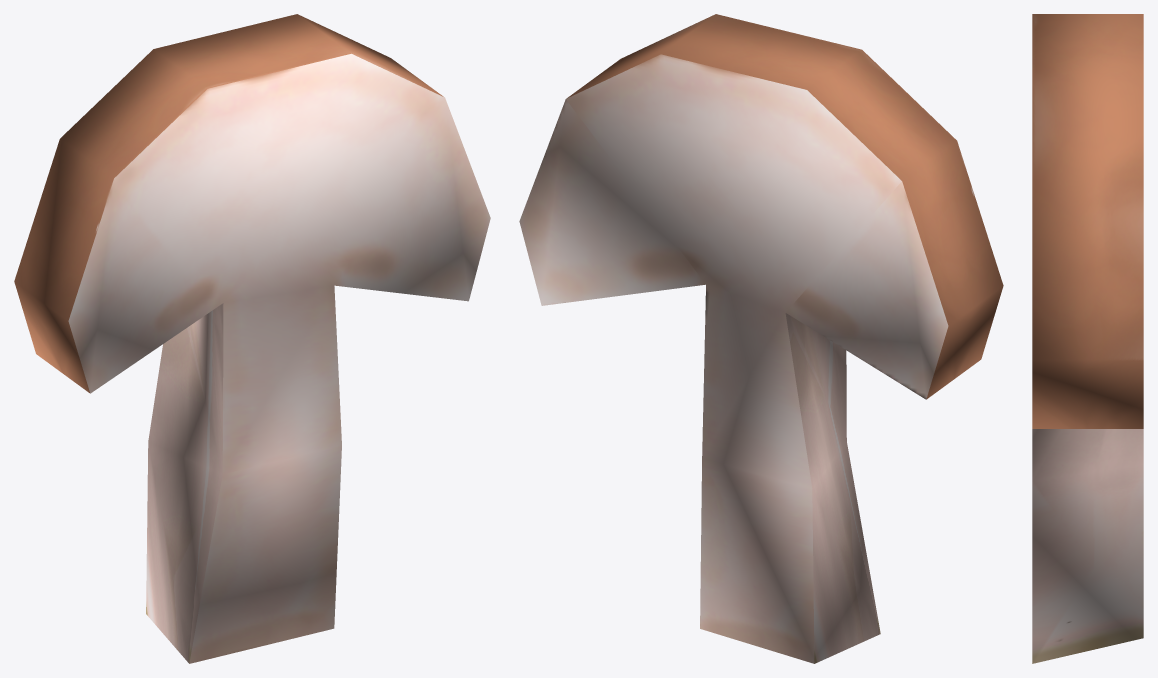
The model's file is Mushroom CUT1.fbx.
3 renders of one model, left to right at view 1: azimuth 30°, elevation 25°; view 2: azimuth 150°, elevation 25°; view 3: azimuth 270°, elevation 25°, orthographic. The views are drawn at different scales.
Parts seen in each view (by area): view 1: Mushroom CUT1; view 2: Mushroom CUT1; view 3: Mushroom CUT1.
Part boxes in pixels (left/top/right/bottom): Mushroom CUT1: left=14, top=14, right=490, bottom=663; Mushroom CUT1: left=519, top=14, right=1003, bottom=663; Mushroom CUT1: left=1032, top=14, right=1143, bottom=663.
Size of the model in its own units: 27.72 by 35.79 by 6.16.
